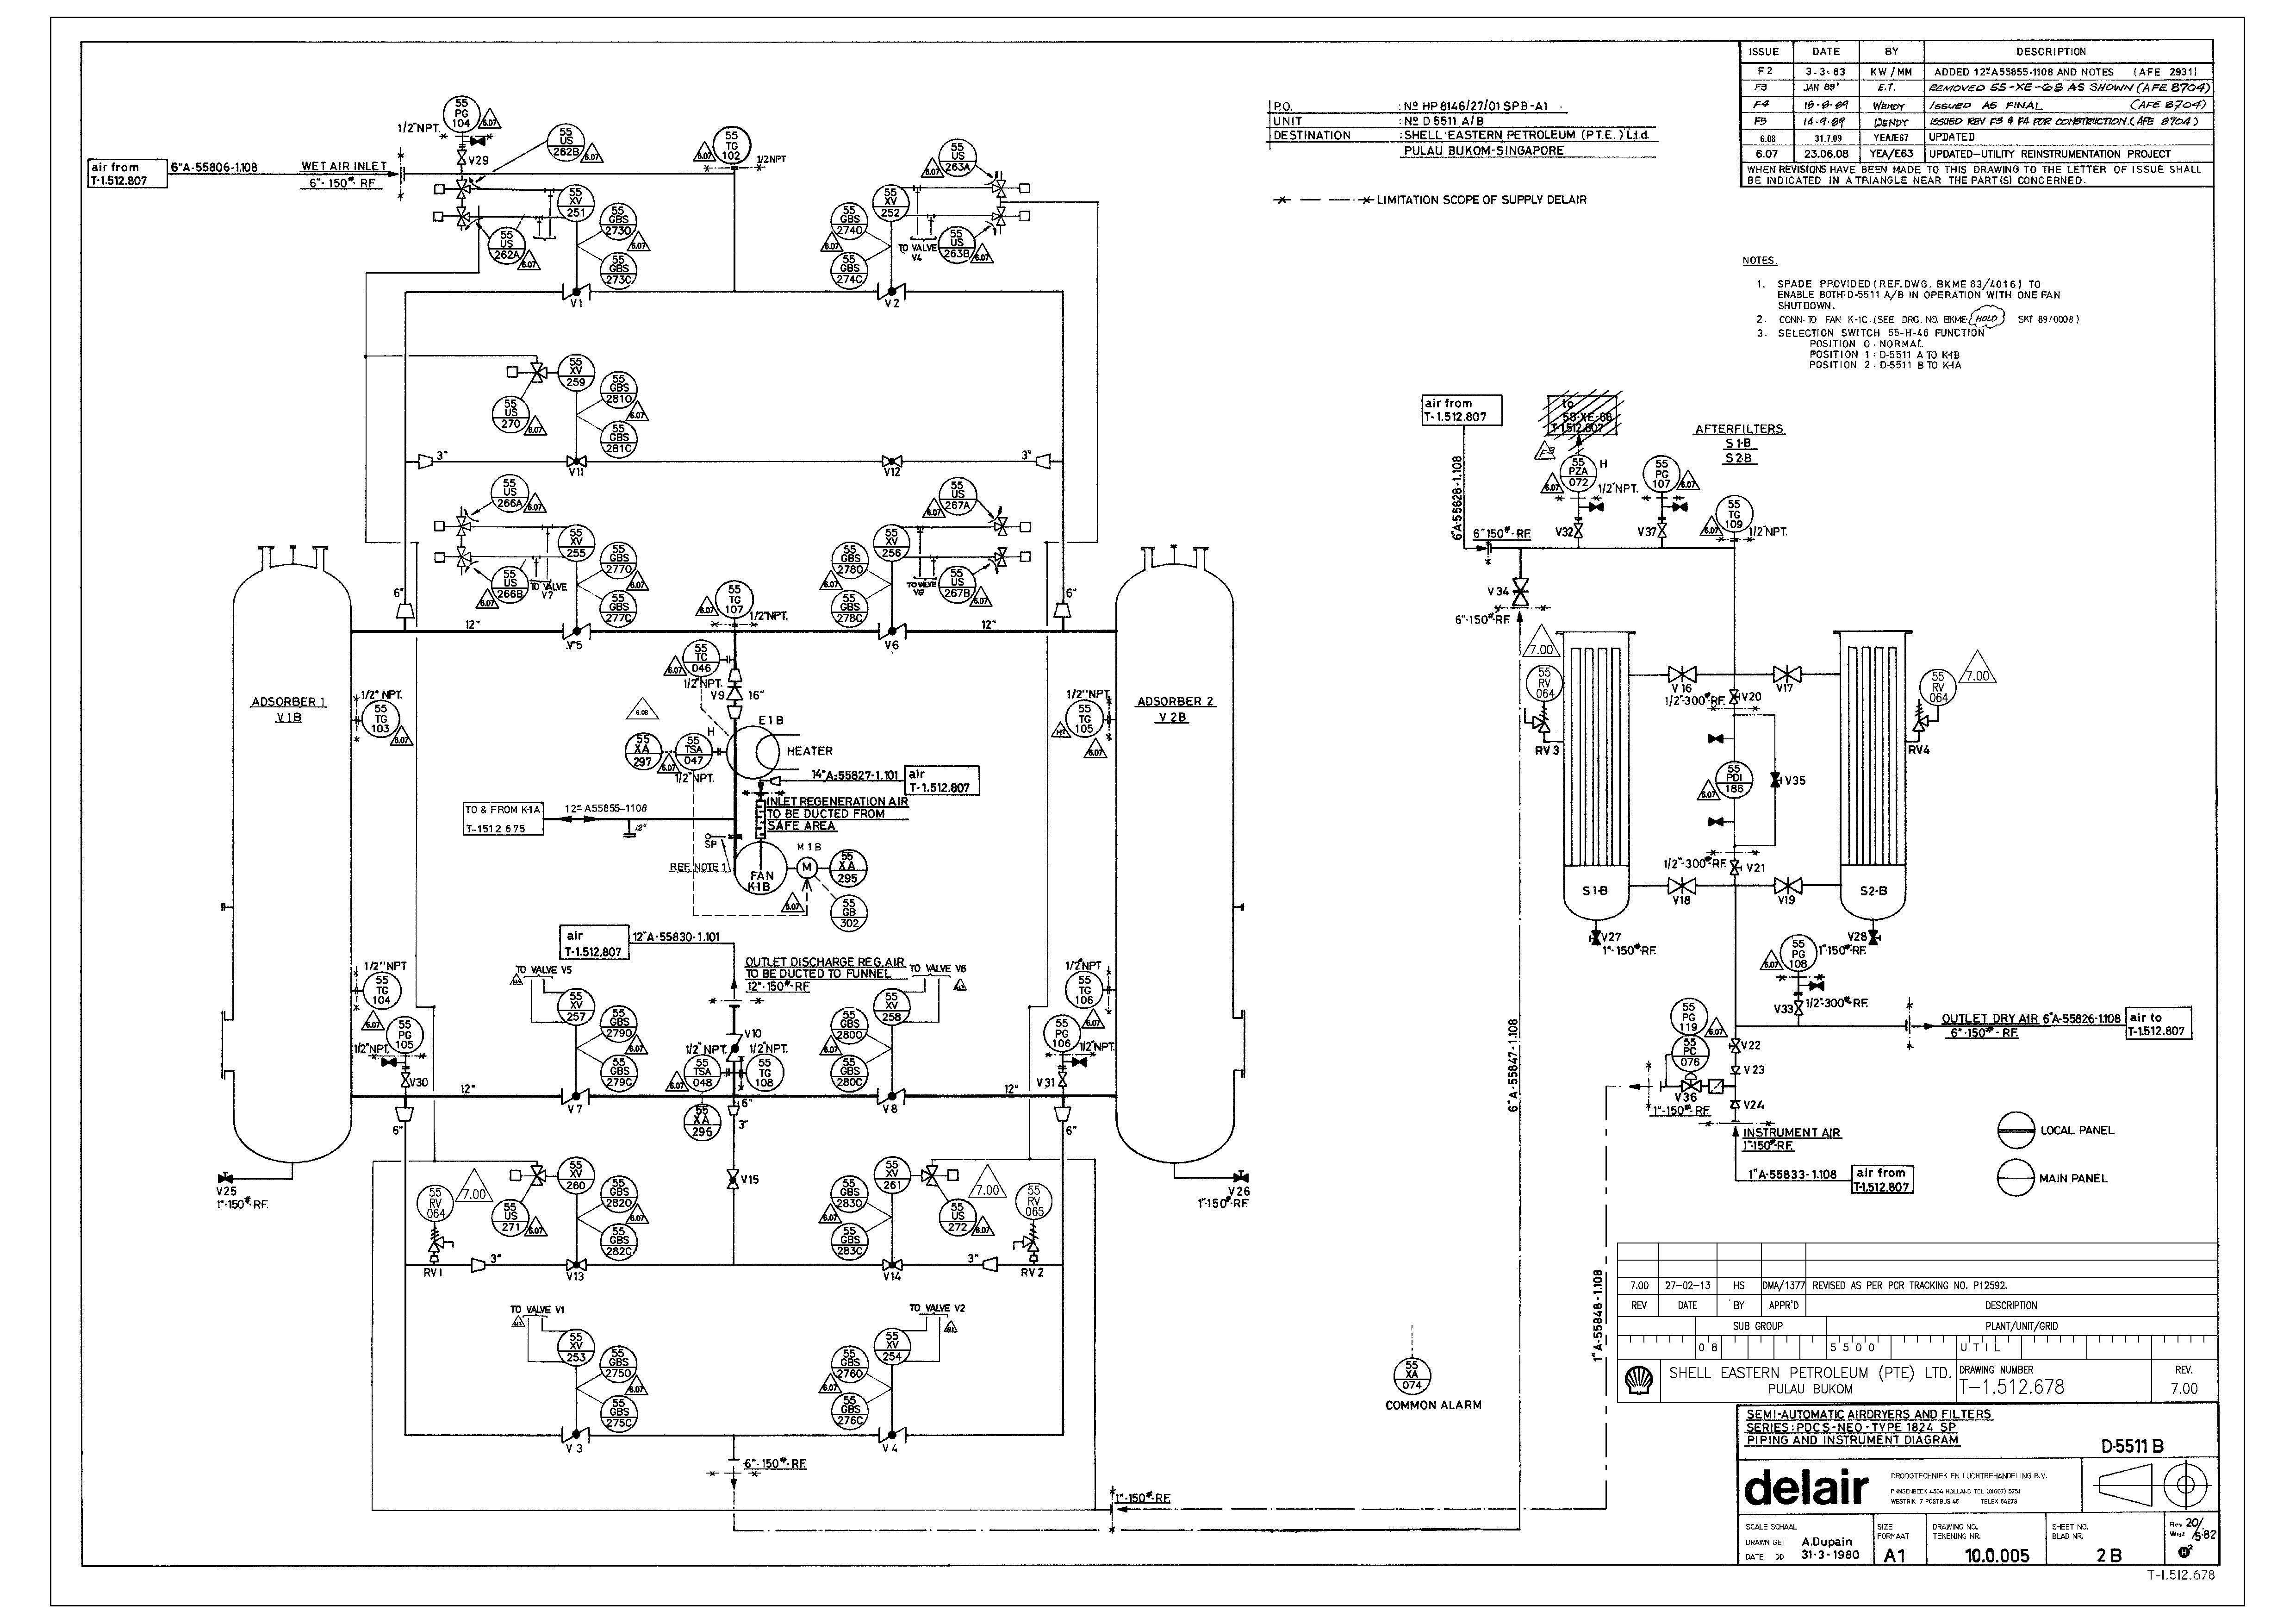Inline Instrument: (711, 125, 754, 165), (358, 698, 401, 738), (713, 578, 755, 619), (1713, 758, 1755, 798), (1525, 663, 1567, 703), (1776, 932, 1818, 972), (441, 93, 481, 134), (1065, 968, 1105, 1009), (745, 1053, 785, 1093), (1641, 453, 1681, 494), (1716, 492, 1757, 533), (1558, 453, 1599, 494), (1918, 666, 1959, 707), (1669, 1035, 1709, 1076), (1669, 997, 1709, 1037), (1014, 1181, 1056, 1220), (1063, 700, 1105, 738), (385, 1014, 425, 1053), (362, 970, 402, 1009), (415, 1183, 455, 1222), (1042, 1014, 1082, 1053)
